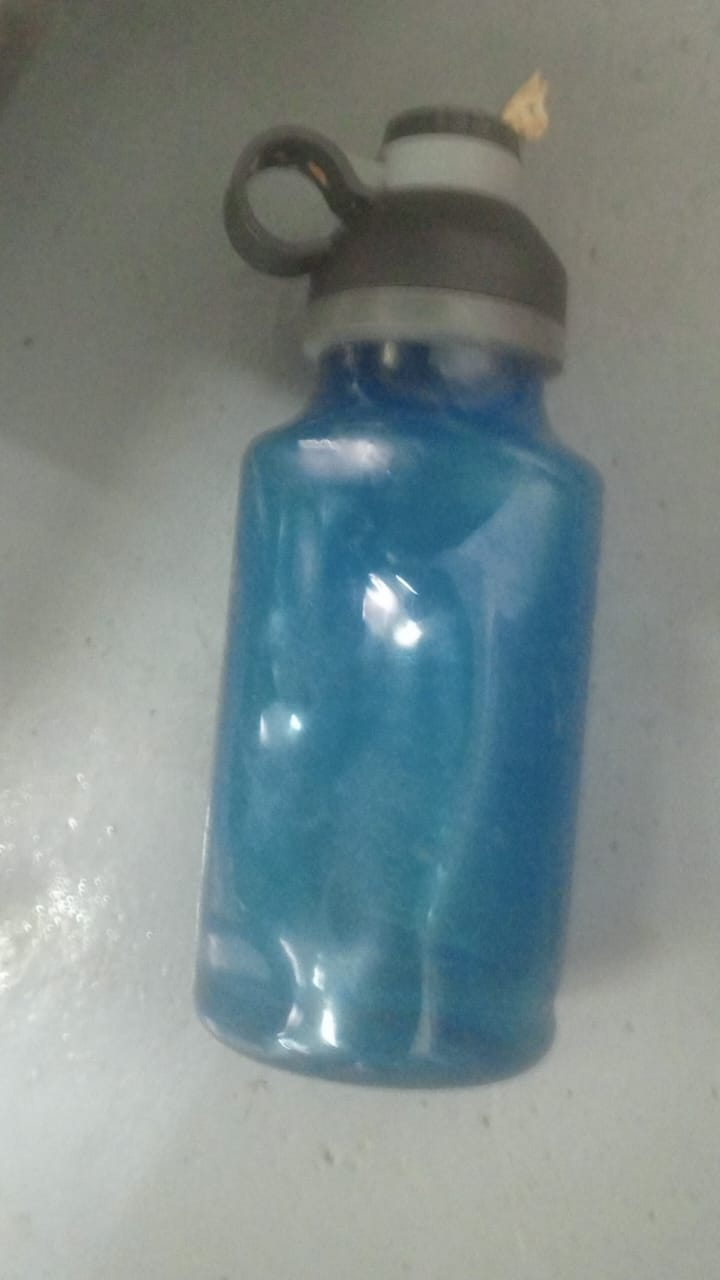Plastico: (193, 104, 603, 1093)
